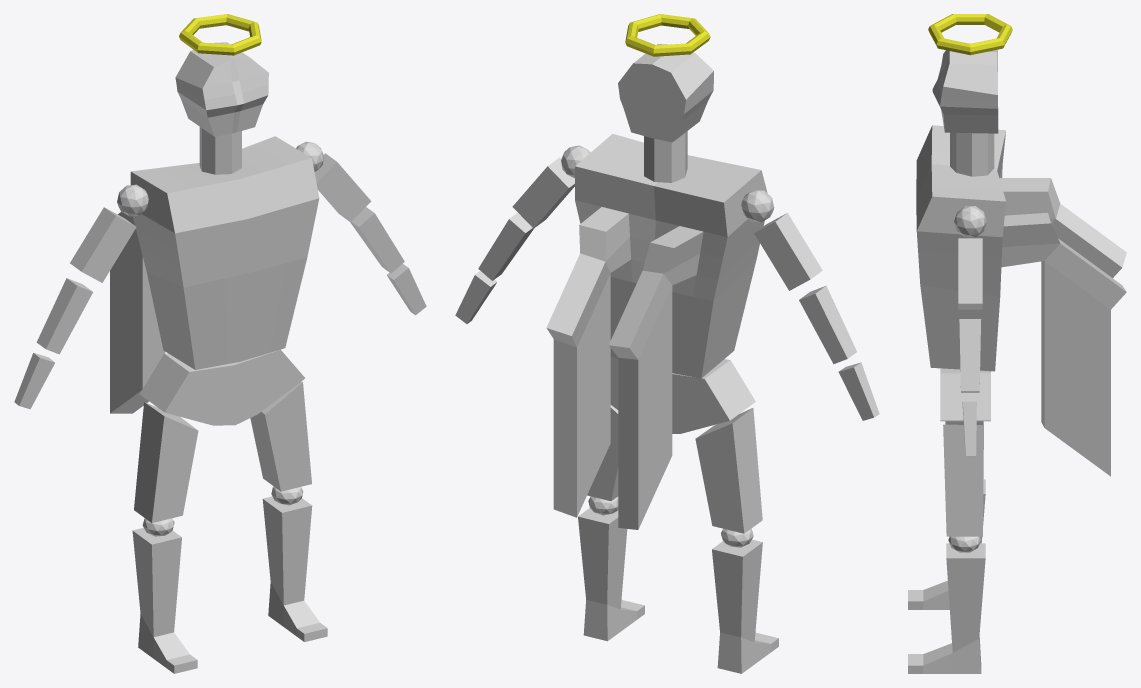
File: AngelCharacterWithHalo.fbx
The picture shows the model from 3 angles, left to right: view 1: azimuth 30°, elevation 25°; view 2: azimuth 150°, elevation 25°; view 3: azimuth 270°, elevation 25°; orthographic projection. The views are drawn at different scales.
Visible parts, largest first — view 1: Torso, Foot+Tibia, Femur, Hips, Cube, Upper Arm,, ForeArm, Hand, Torus, Neck, Icosphere, Kneecap; view 2: Torso, Foot+Tibia, Femur, Cube, Upper Arm,, Hips, ForeArm, Hand, Torus, Neck, Icosphere, Kneecap; view 3: Torso, Foot+Tibia, Cube, Femur, Hips, Torus, Neck, Upper Arm,, ForeArm, Icosphere, Hand, Kneecap.
Boxes of the visible parts, x1=… form: Torso: x1=110, y1=136, x2=319, y2=413; Foot+Tibia: x1=132, y1=496, x2=327, y2=673; Femur: x1=134, y1=381, x2=311, y2=522; Hips: x1=140, y1=349, x2=305, y2=425; Cube: x1=175, y1=42, x2=268, y2=136; Upper Arm,: x1=70, y1=153, x2=371, y2=282; ForeArm: x1=36, y1=207, x2=404, y2=354; Hand: x1=14, y1=263, x2=426, y2=409; Torus: x1=179, y1=14, x2=261, y2=55; Neck: x1=199, y1=127, x2=241, y2=174; Icosphere: x1=117, y1=141, x2=323, y2=216; Kneecap: x1=142, y1=486, x2=303, y2=536; Torso: x1=546, y1=134, x2=767, y2=529; Foot+Tibia: x1=578, y1=508, x2=778, y2=673; Femur: x1=587, y1=405, x2=762, y2=533; Cube: x1=618, y1=44, x2=713, y2=142; Upper Arm,: x1=512, y1=157, x2=822, y2=290; Hips: x1=610, y1=356, x2=755, y2=433; ForeArm: x1=478, y1=212, x2=856, y2=364; Hand: x1=455, y1=271, x2=879, y2=420; Torus: x1=625, y1=14, x2=710, y2=56; Neck: x1=644, y1=131, x2=687, y2=182; Icosphere: x1=561, y1=145, x2=774, y2=222; Kneecap: x1=588, y1=496, x2=753, y2=547; Torso: x1=916, y1=125, x2=1126, y2=476; Foot+Tibia: x1=908, y1=479, x2=985, y2=673; Cube: x1=932, y1=49, x2=998, y2=133; Femur: x1=943, y1=421, x2=983, y2=536; Hips: x1=940, y1=368, x2=990, y2=421; Torus: x1=928, y1=14, x2=1012, y2=55; Neck: x1=950, y1=132, x2=994, y2=176; Upper Arm,: x1=958, y1=238, x2=982, y2=309; ForeArm: x1=959, y1=319, x2=981, y2=392; Icosphere: x1=954, y1=206, x2=986, y2=237; Hand: x1=962, y1=401, x2=976, y2=456; Kneecap: x1=948, y1=536, x2=981, y2=552.
Size of the model in its own units: 157 by 222 by 72.47.
